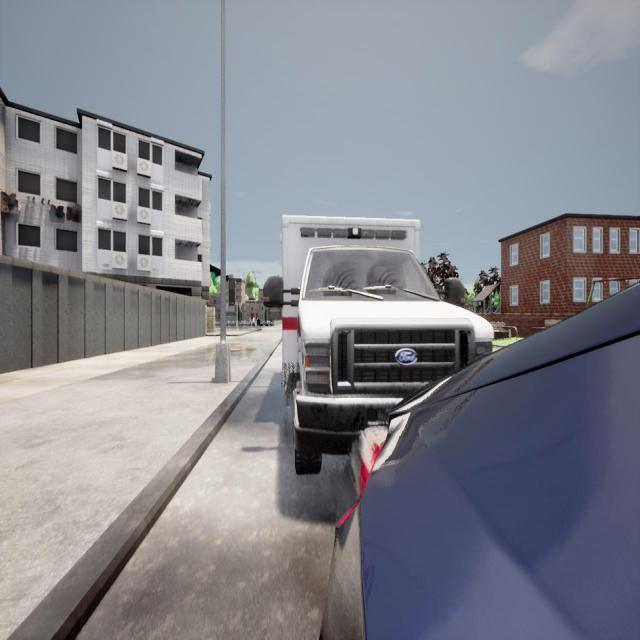Vehicle: (322, 282, 640, 640), (263, 217, 495, 476)
